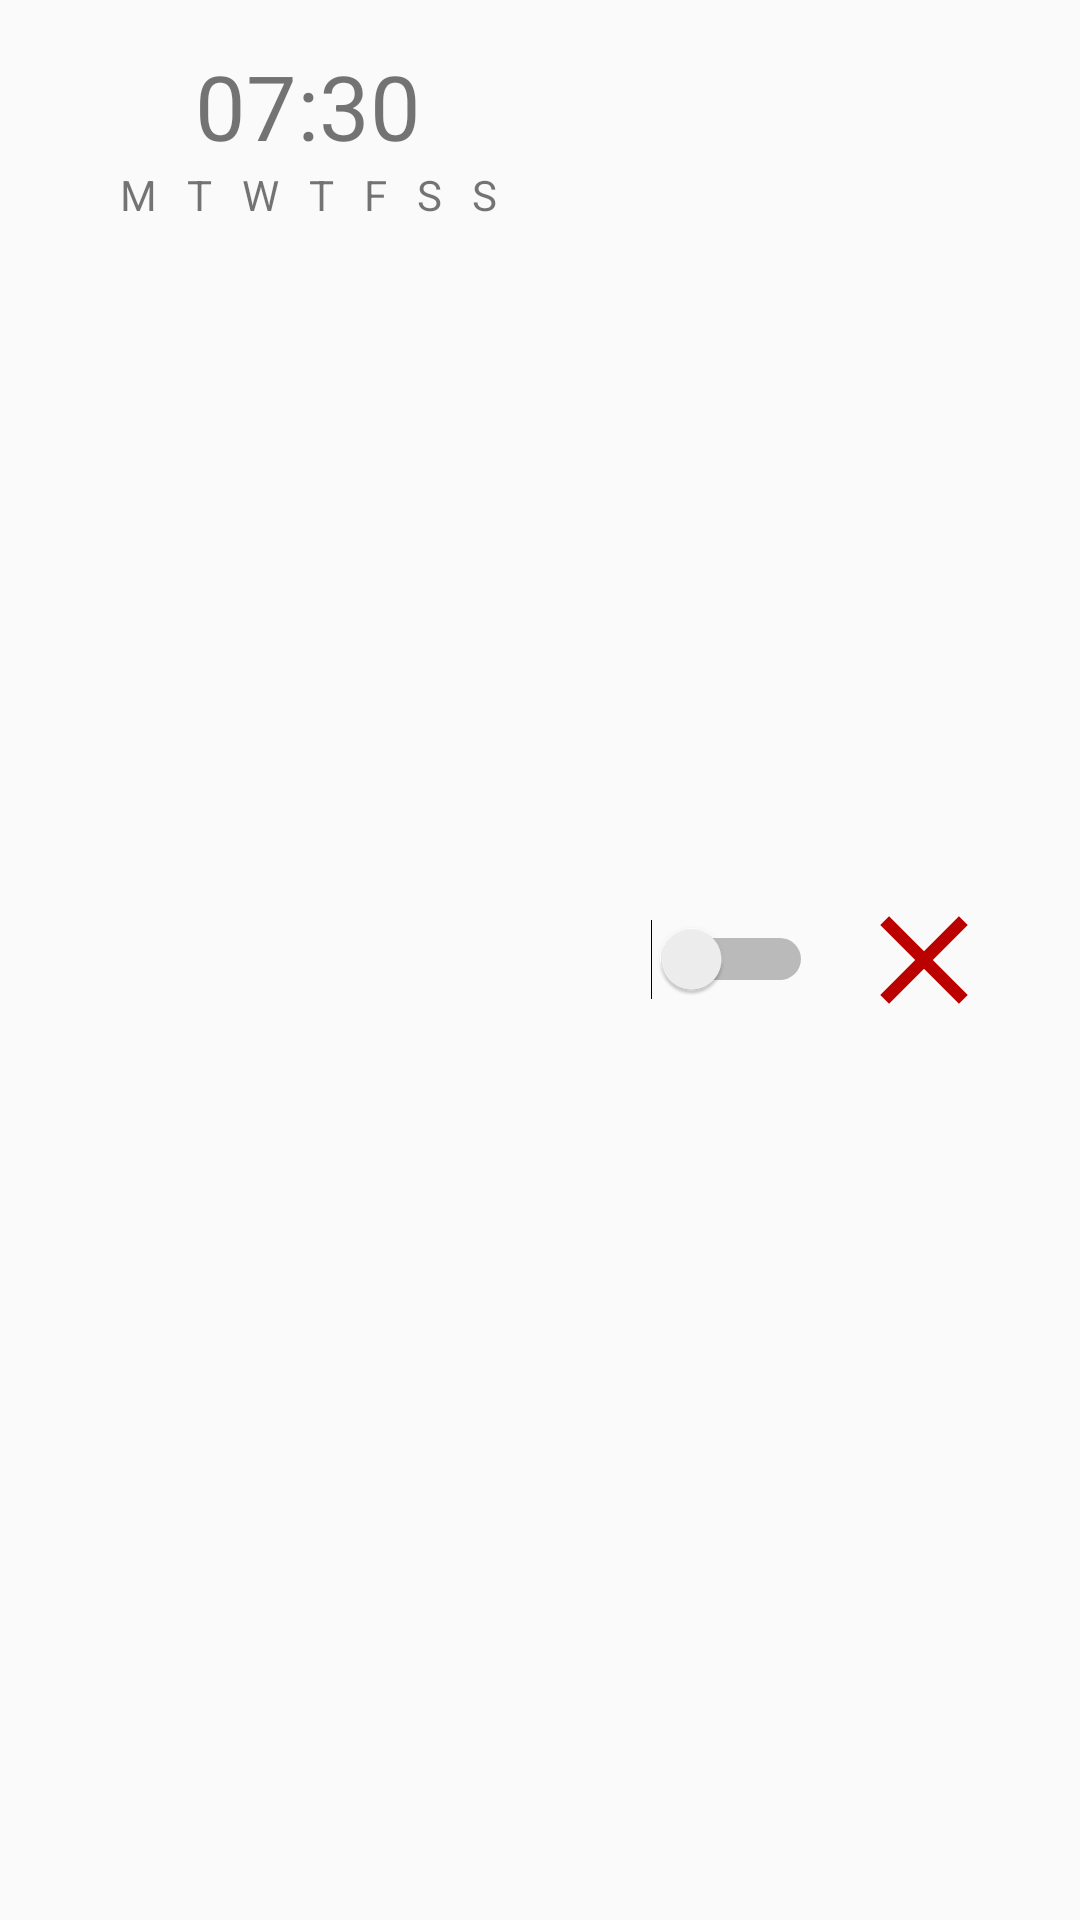

Named icons in this screenshot (1080px×1920px) and their centers, (x=x, y=y):
clear: (x=924, y=960)
